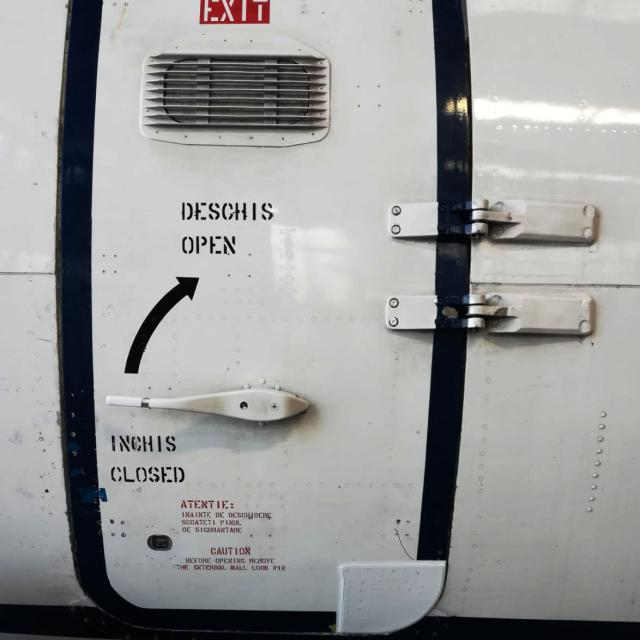Rupture: (393, 526, 418, 562)
